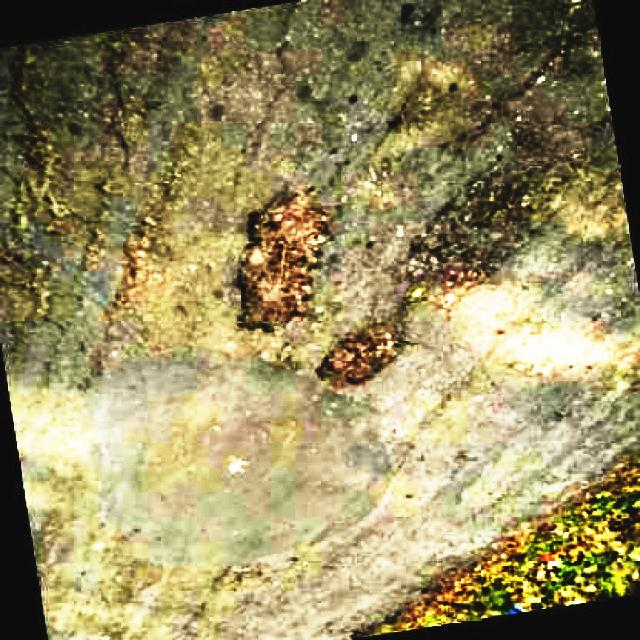pothole: (404, 149, 548, 294), (223, 196, 340, 336), (314, 320, 418, 389)
